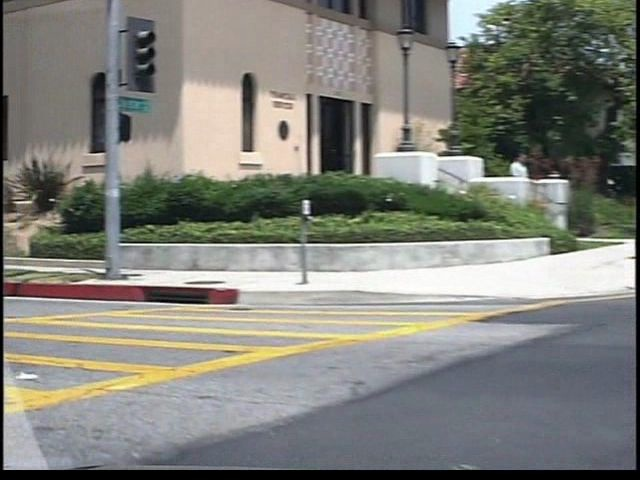person: (490, 143, 515, 222)
